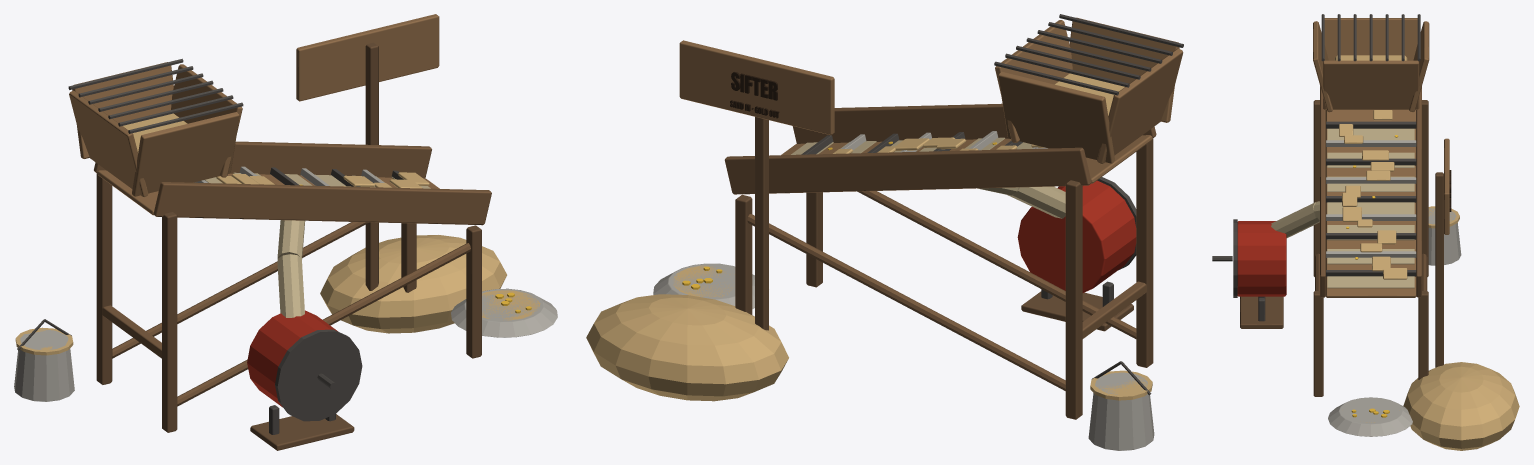
The model's file is Sifter.glb.
3 views of the same model, side by side, from view 1: azimuth 30°, elevation 25°; view 2: azimuth 150°, elevation 25°; view 3: azimuth 270°, elevation 25° (orthographic). The views are drawn at different scales.
Visible parts, largest first — view 1: Sifter.001; view 2: Sifter.001; view 3: Sifter.001.
Part boxes in pixels (bbox=[...]): Sifter.001: bbox=[14, 14, 557, 450]; Sifter.001: bbox=[586, 14, 1183, 450]; Sifter.001: bbox=[1212, 14, 1519, 450].
Size of the model in its own units: 3.18 by 2.09 by 2.11.
